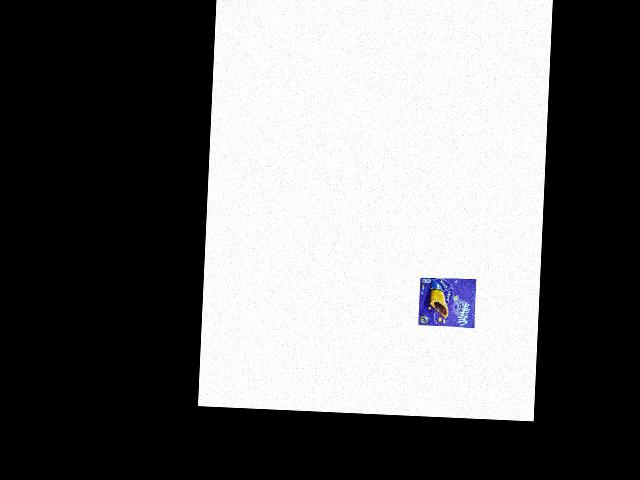chocolate: (414, 274, 480, 331)
